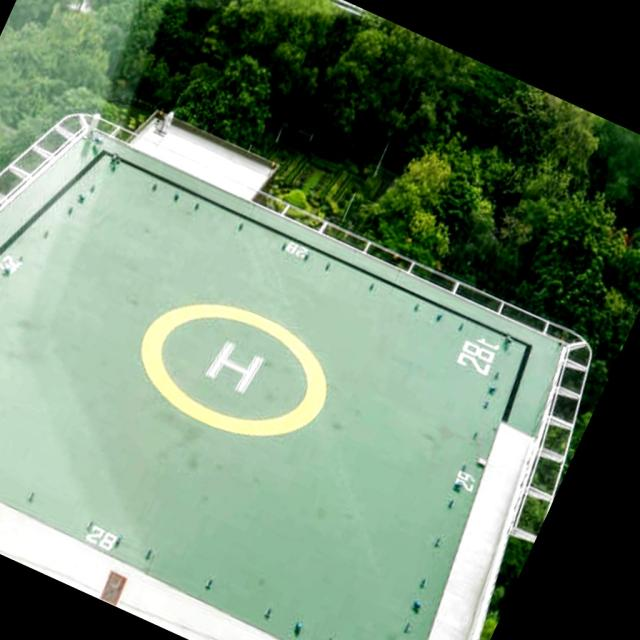helipad: (136, 298, 330, 439)
